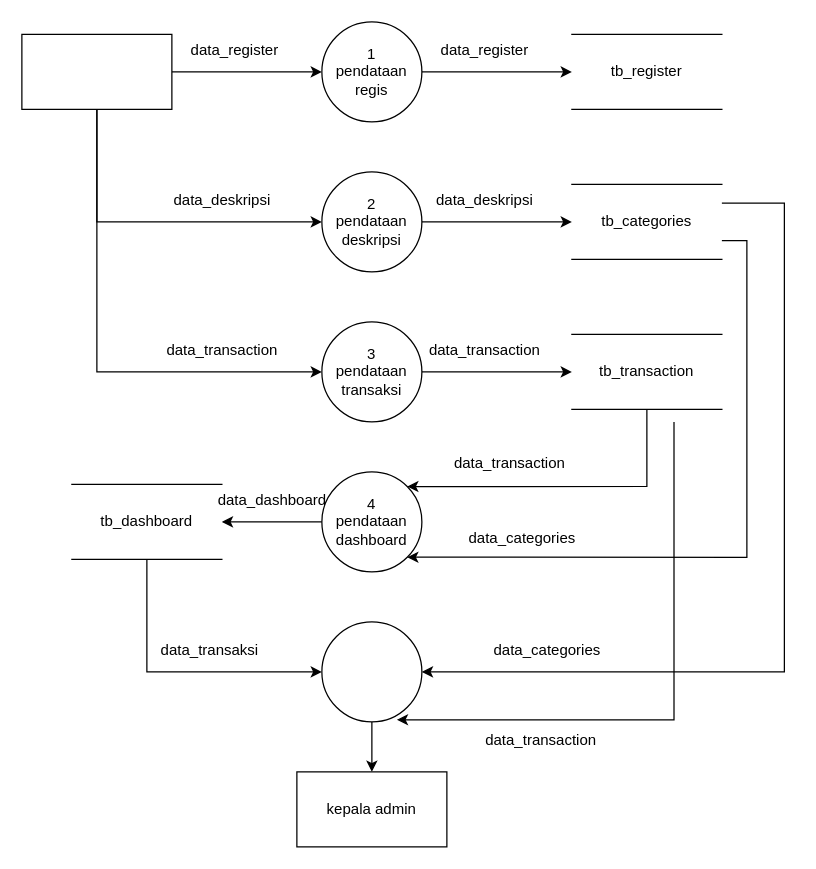
This 816x869 diagram has some shape labels left out. Each missing label, with the centre of its shape:
5 pembuatan laporan: (371,671)
admin: (96,71)
